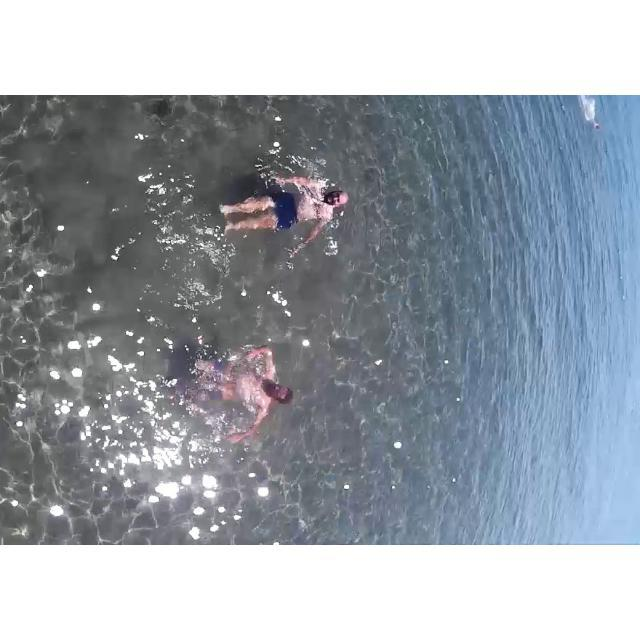human: (215, 152, 345, 282), (191, 328, 297, 464)
